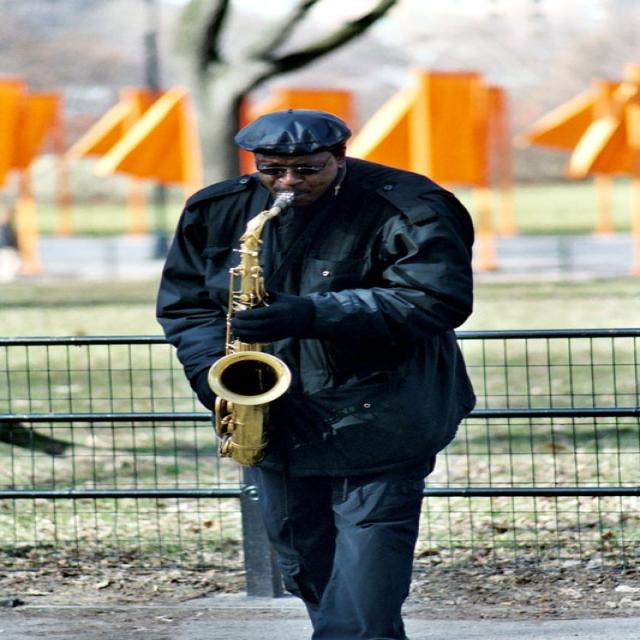saxophone: (204, 192, 304, 470)
